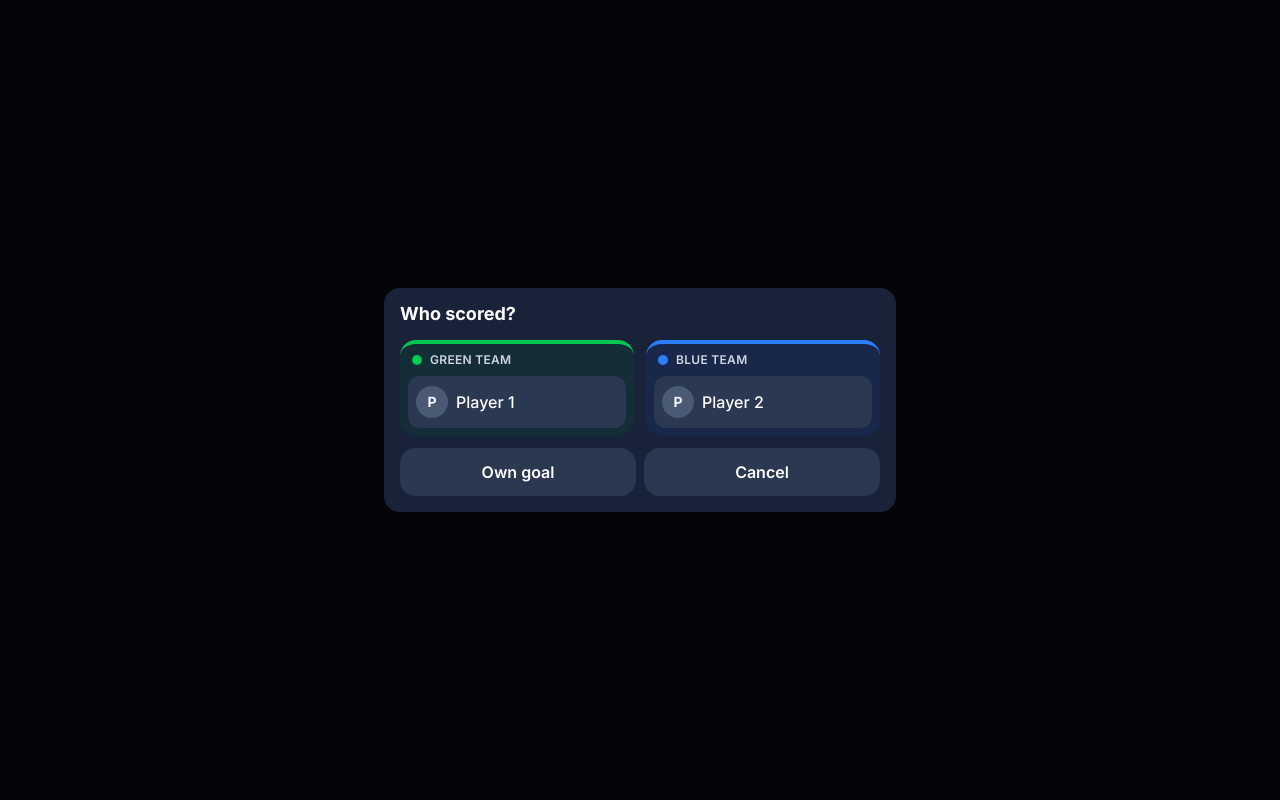
Test: records an own goal in two taps, with no assist step
Later steps or results of the test are not shown.
Click the button "Own goal": (518, 472) [400,448,636,496]
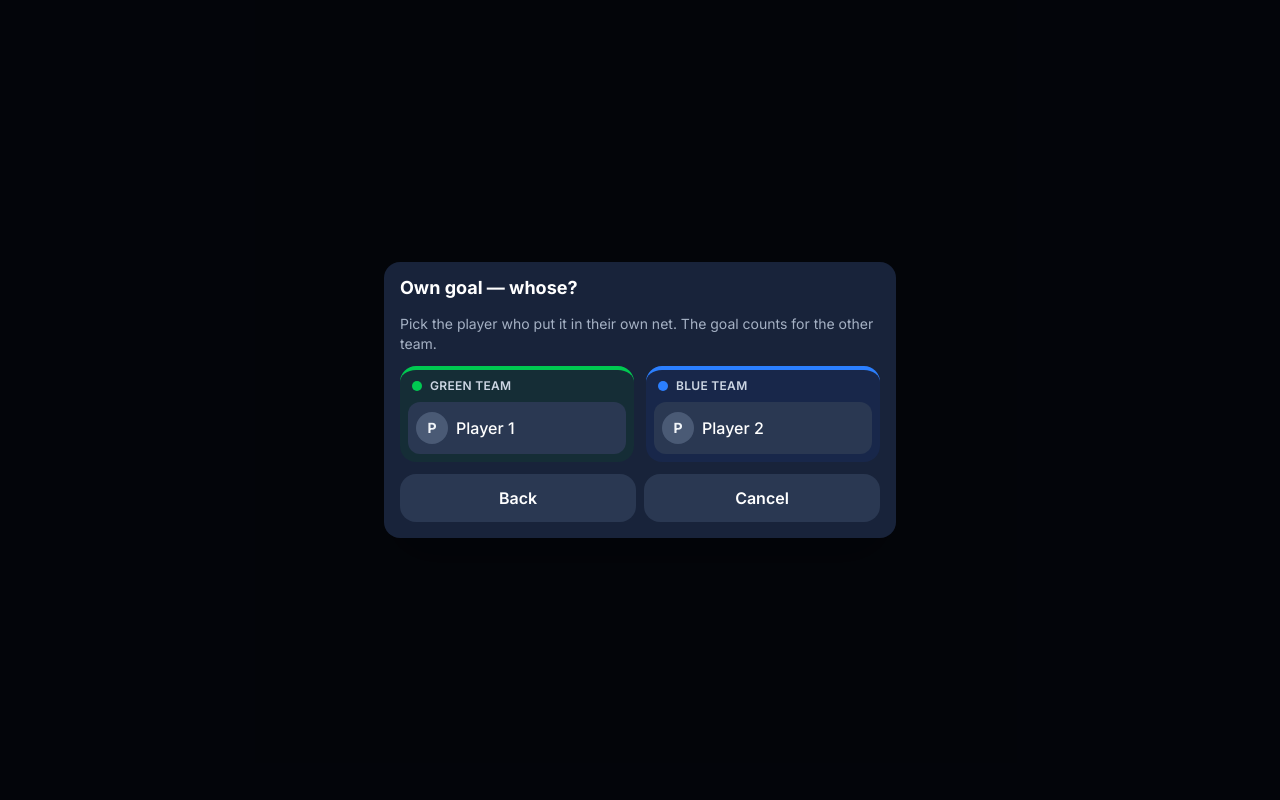
Now the heading "Own goal — whose?" is shown, box [400,277,578,298]
